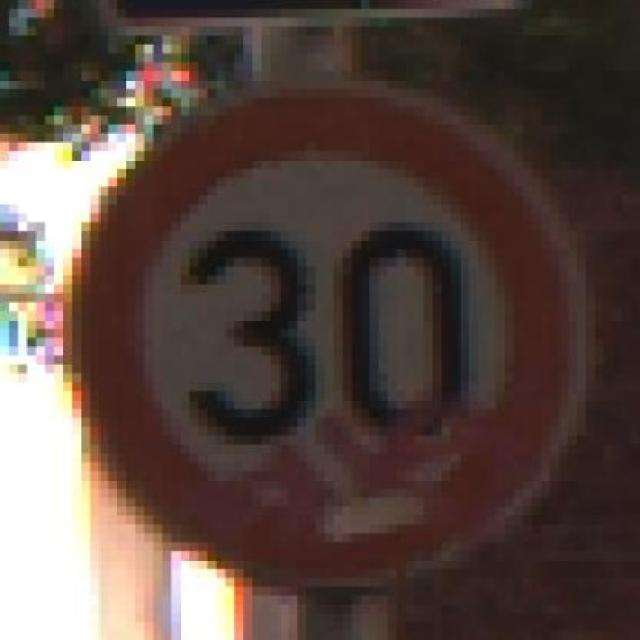Speed Limit 30 KMPh: (45, 80, 604, 614)
